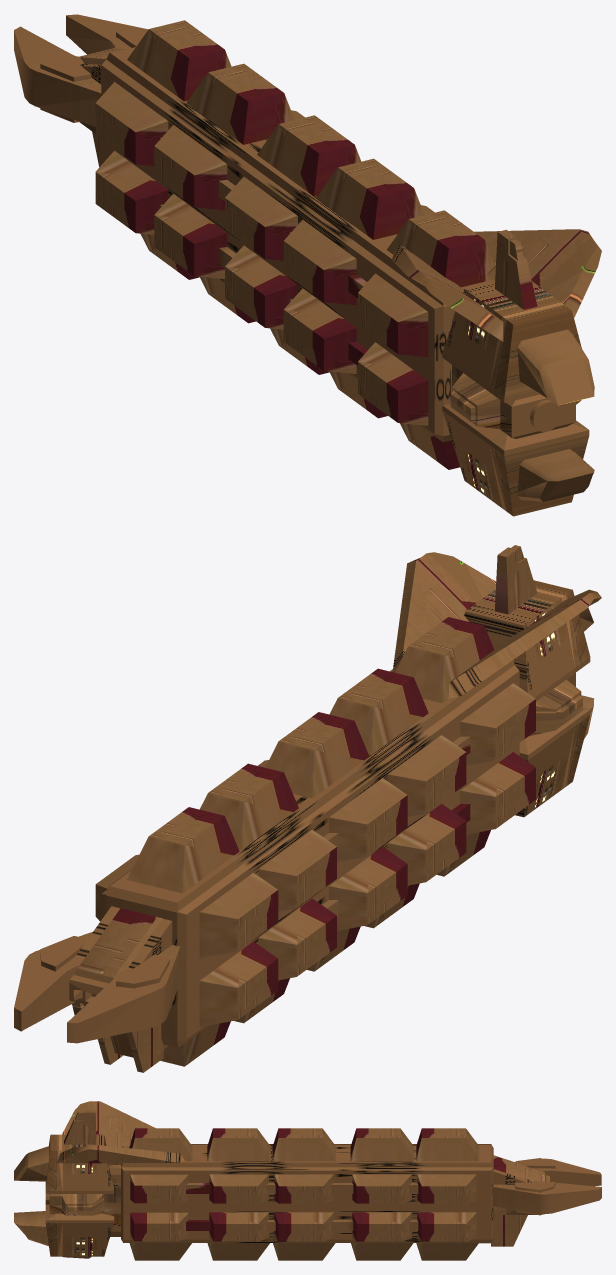
The model's file is Car_Grommel.fbx.
The picture shows the model from 3 angles, top to bottom: view 1: azimuth 30°, elevation 25°; view 2: azimuth 150°, elevation 25°; view 3: azimuth 270°, elevation 25°; orthographic projection. The views are drawn at different scales.
Visible parts, largest first — view 1: Car_Grommel; view 2: Car_Grommel; view 3: Car_Grommel.
Part boxes in pixels (box(x1,y1,x2,y2)): Car_Grommel: box(14, 14, 601, 516); Car_Grommel: box(14, 545, 601, 1072); Car_Grommel: box(14, 1101, 601, 1260).
Bounding box in the file's own units: 72.04 × 99.18 × 367.
1 material, 1 textured.
